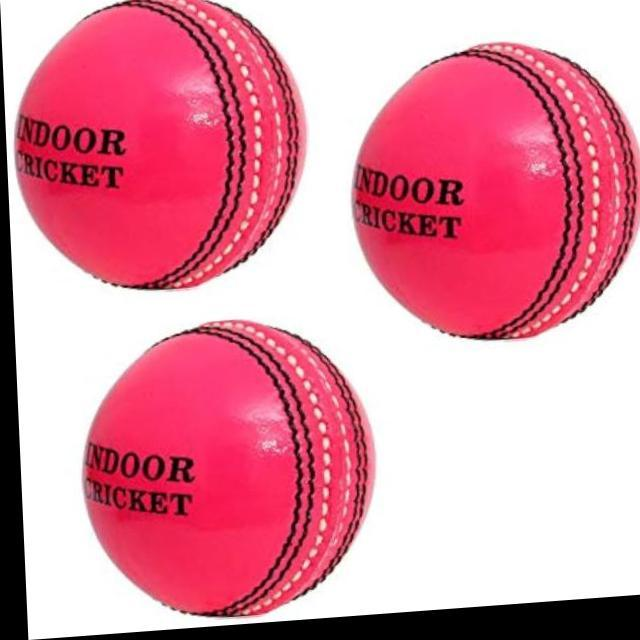cricket ball: (348, 49, 640, 350), (78, 325, 372, 622), (14, 0, 306, 293)
